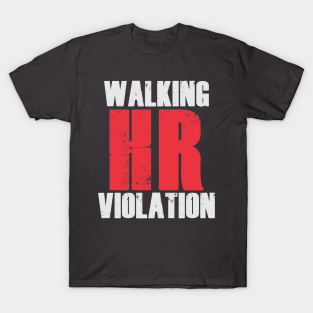design: (96, 78, 217, 220)
